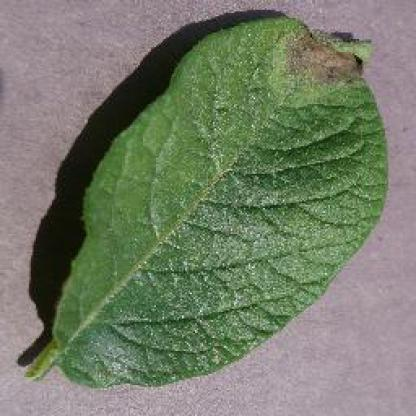bad leaf: (0, 0, 410, 390), (23, 105, 402, 392), (248, 19, 388, 92)
good leaf: (79, 52, 222, 394)
